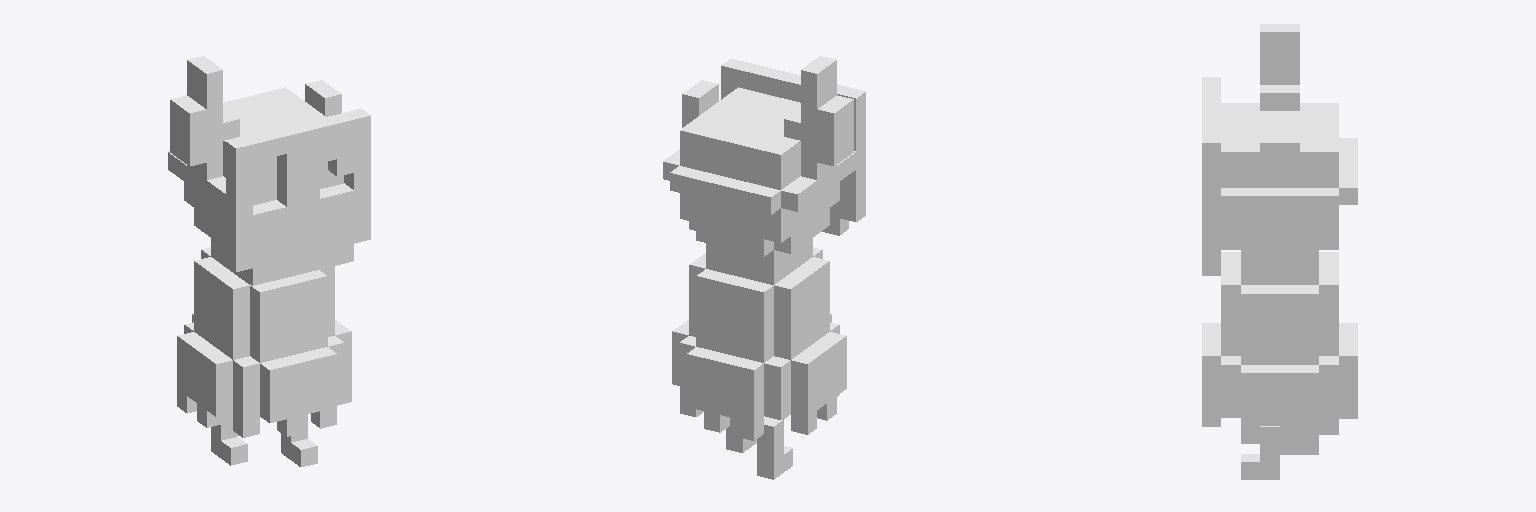
Rendered from Voxels-17.obj.
The picture shows the model from 3 angles: view 1: azimuth 30°, elevation 25°; view 2: azimuth 150°, elevation 25°; view 3: azimuth 270°, elevation 25°; orthographic projection.
Parts seen in each view (by area): view 1: Voxels-17; view 2: Voxels-17; view 3: Voxels-17.
Part boxes in pixels (bbox=[...]): Voxels-17: bbox=[168, 56, 370, 466]; Voxels-17: bbox=[663, 56, 865, 479]; Voxels-17: bbox=[1202, 24, 1357, 479].
Bounding box in the file's own units: 9 × 23 × 8.